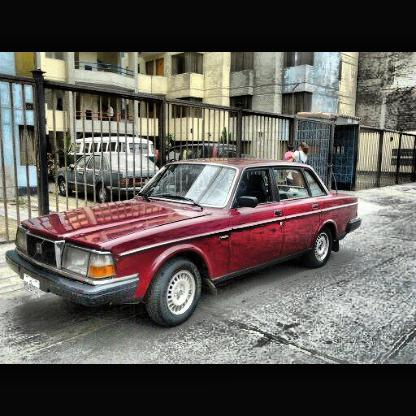Volvo 240 Sedan 1993: (6, 157, 365, 330)
